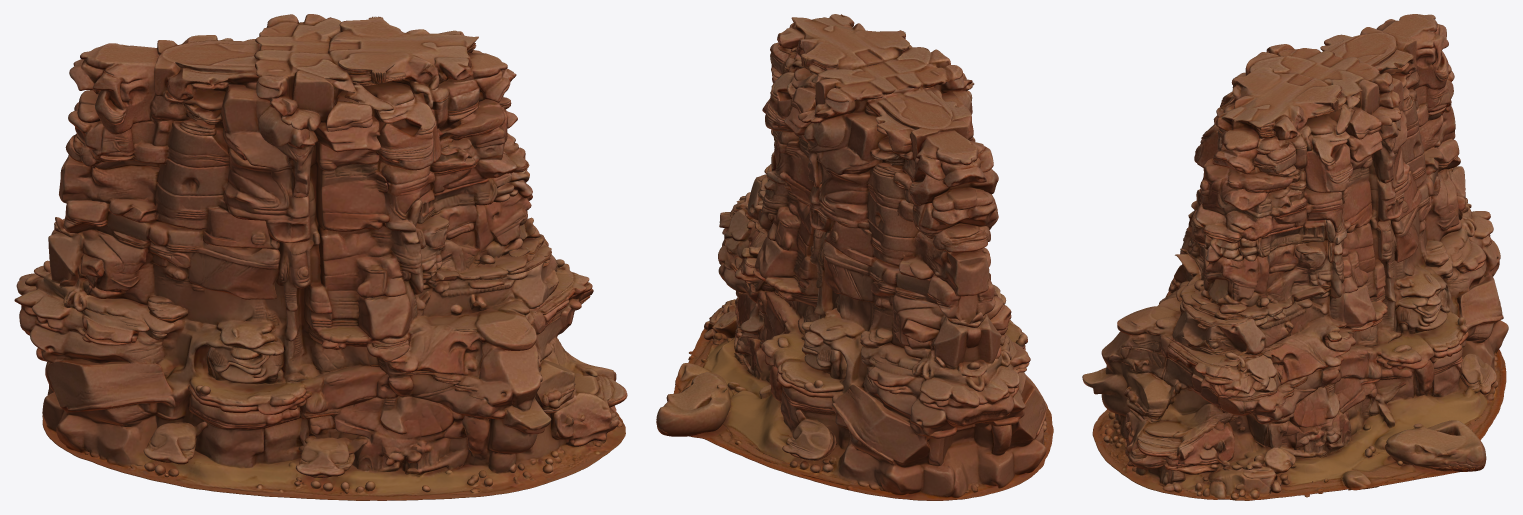
The model's file is mars_cliff.glb.
The picture shows the model from 3 angles, left to right: view 1: azimuth 30°, elevation 25°; view 2: azimuth 150°, elevation 25°; view 3: azimuth 270°, elevation 25°; orthographic projection. The views are drawn at different scales.
Parts seen in each view (by area): view 1: tripo_node_85ae4594-4fde-49bf-bd84-0f26a334504e; view 2: tripo_node_85ae4594-4fde-49bf-bd84-0f26a334504e; view 3: tripo_node_85ae4594-4fde-49bf-bd84-0f26a334504e.
Part boxes in pixels (box(x1,y1,x2,y2)): tripo_node_85ae4594-4fde-49bf-bd84-0f26a334504e: box(14, 14, 627, 500); tripo_node_85ae4594-4fde-49bf-bd84-0f26a334504e: box(656, 14, 1053, 500); tripo_node_85ae4594-4fde-49bf-bd84-0f26a334504e: box(1082, 14, 1508, 500).
Size of the model in its own units: 0.9803 by 0.7869 by 0.9042.
Materials: 1 (1 with a texture image).
